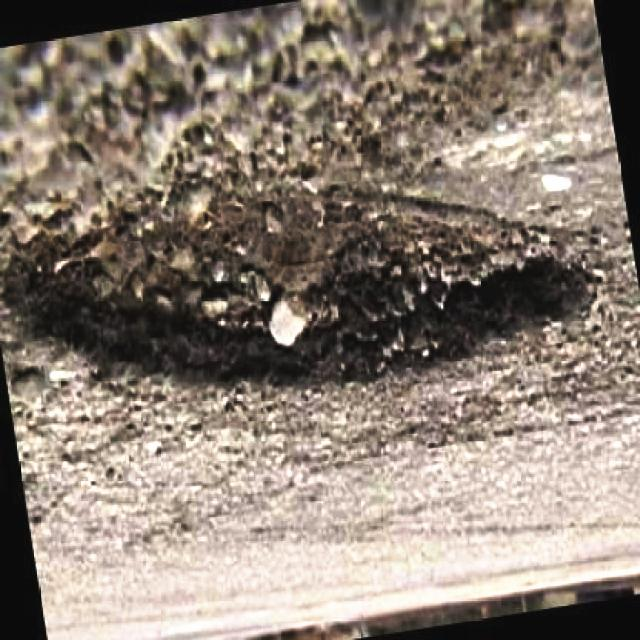pothole: (0, 166, 615, 395)
